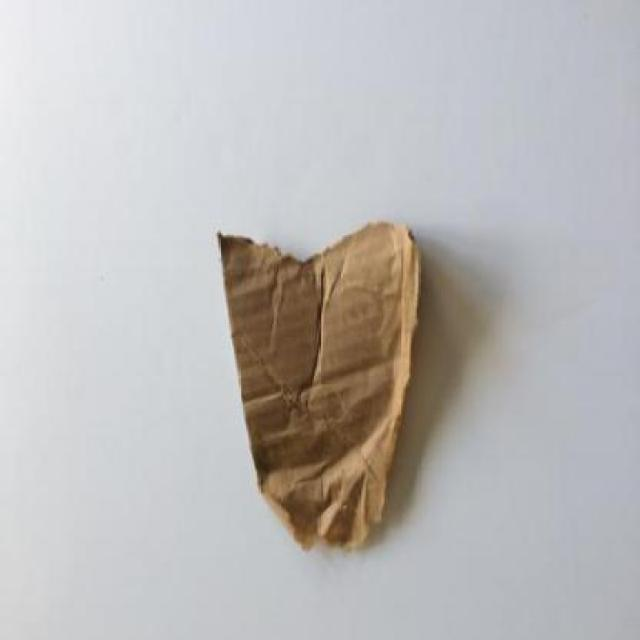box: (209, 215, 440, 577)
